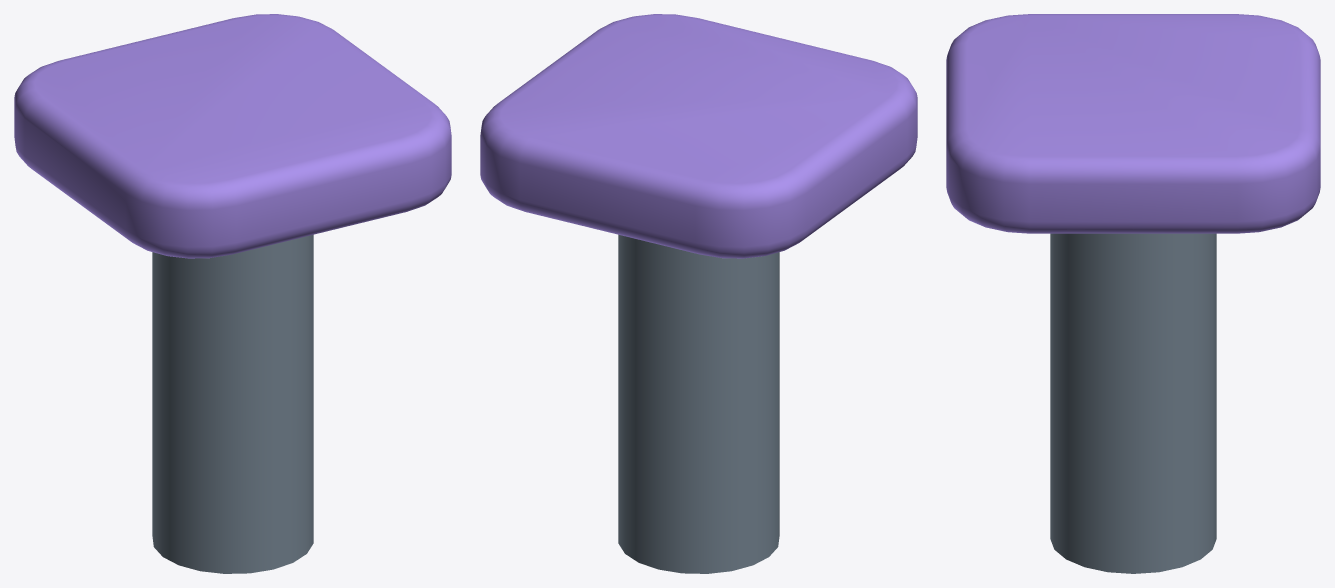
The model's file is Standing_Table.fbx.
3 renders of one model, left to right at view 1: azimuth 30°, elevation 25°; view 2: azimuth 150°, elevation 25°; view 3: azimuth 270°, elevation 25°, orthographic. The views are drawn at different scales.
Visible parts, largest first — view 1: Standing Table; view 2: Standing Table; view 3: Standing Table.
Part boxes in pixels (x1,y1,x2,y2): Standing Table: (14,14,451,573); Standing Table: (480,14,917,573); Standing Table: (946,14,1320,573).
Size of the model in its own units: 90 by 120 by 90.
